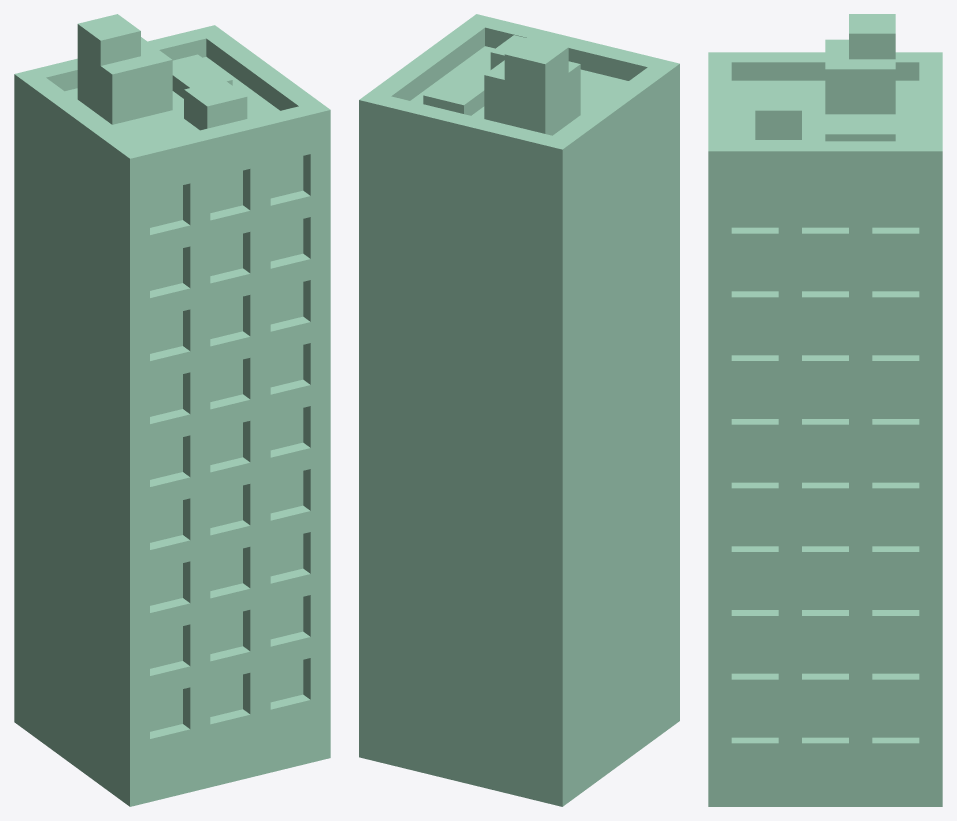
The model's file is SM_Edificio01.fbx.
The picture shows the model from 3 angles, left to right: view 1: azimuth 30°, elevation 25°; view 2: azimuth 150°, elevation 25°; view 3: azimuth 270°, elevation 25°; orthographic projection.
Visible parts, largest first — view 1: Cube; view 2: Cube; view 3: Cube.
Part boxes in pixels (<box>): Cube: <box>14,14,330,806</box>; Cube: <box>359,14,679,806</box>; Cube: <box>708,14,942,806</box>.
Bounding box in the file's own units: 200 × 672 × 200.
